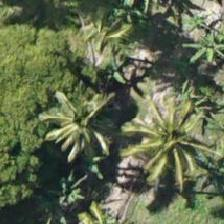coconut_tree: (123, 94, 213, 184), (36, 74, 126, 164), (57, 11, 147, 101)
